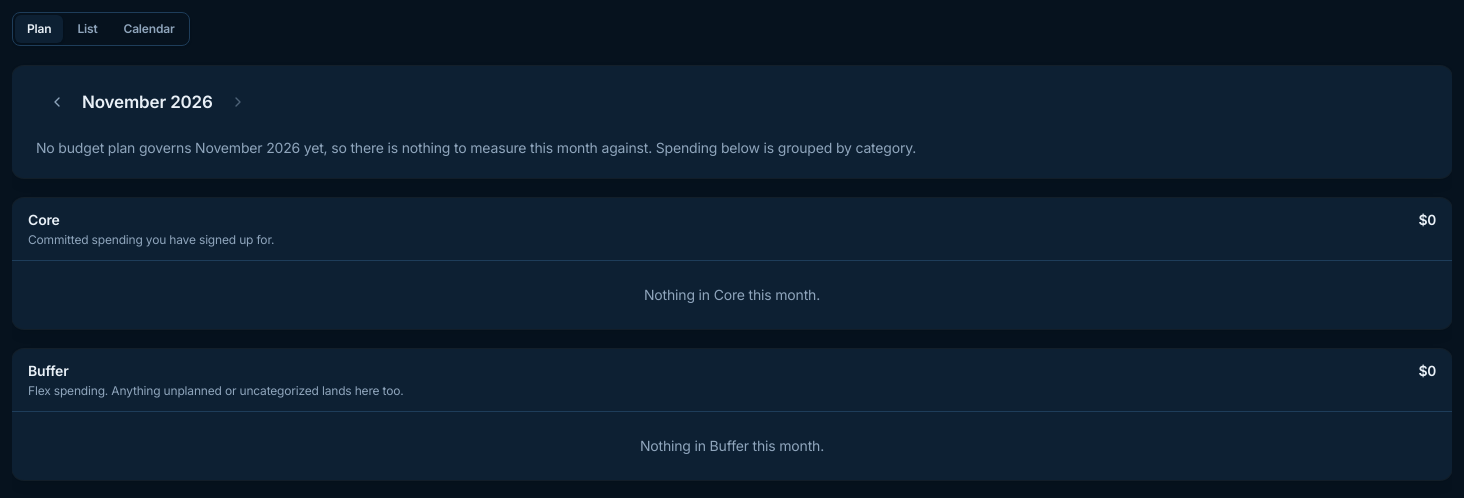
TransactionsSection account filter › is shown once two accounts are linked, defaulting to all accounts
Click the radio button labelled "List" at (87, 29), box top-left (65, 15), bottom-right (110, 43)
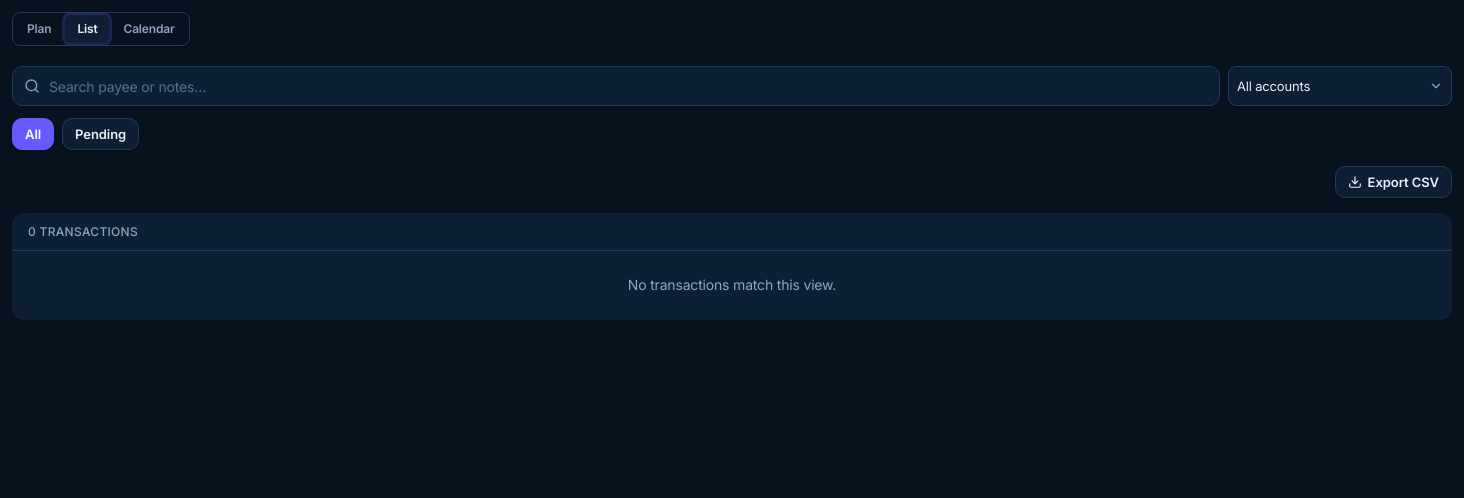
Expected: the dropdown named "Filter by account" reads "All accounts", top-left (1228, 66), bottom-right (1452, 106)
